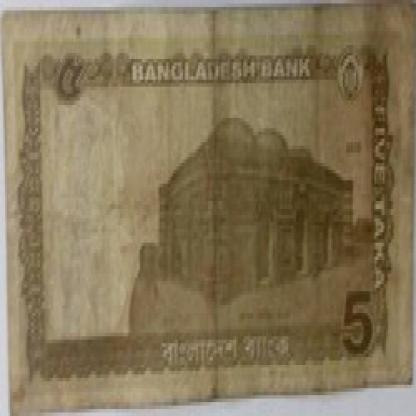Five Taka: (338, 281, 378, 378), (53, 45, 85, 111)
